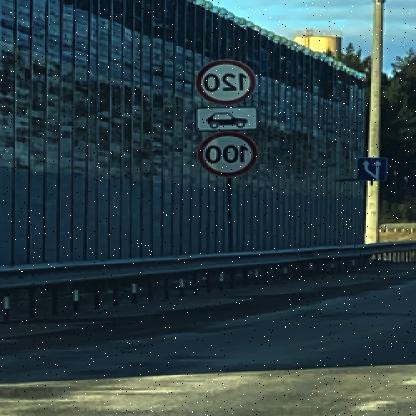speedlimit: (202, 131, 262, 176), (200, 58, 260, 100)
